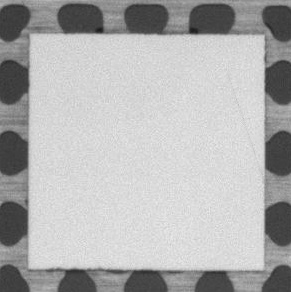DIE_CRACK: (225, 69, 271, 206)
